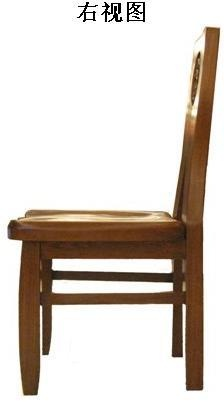obstacle: (8, 27, 219, 394)
